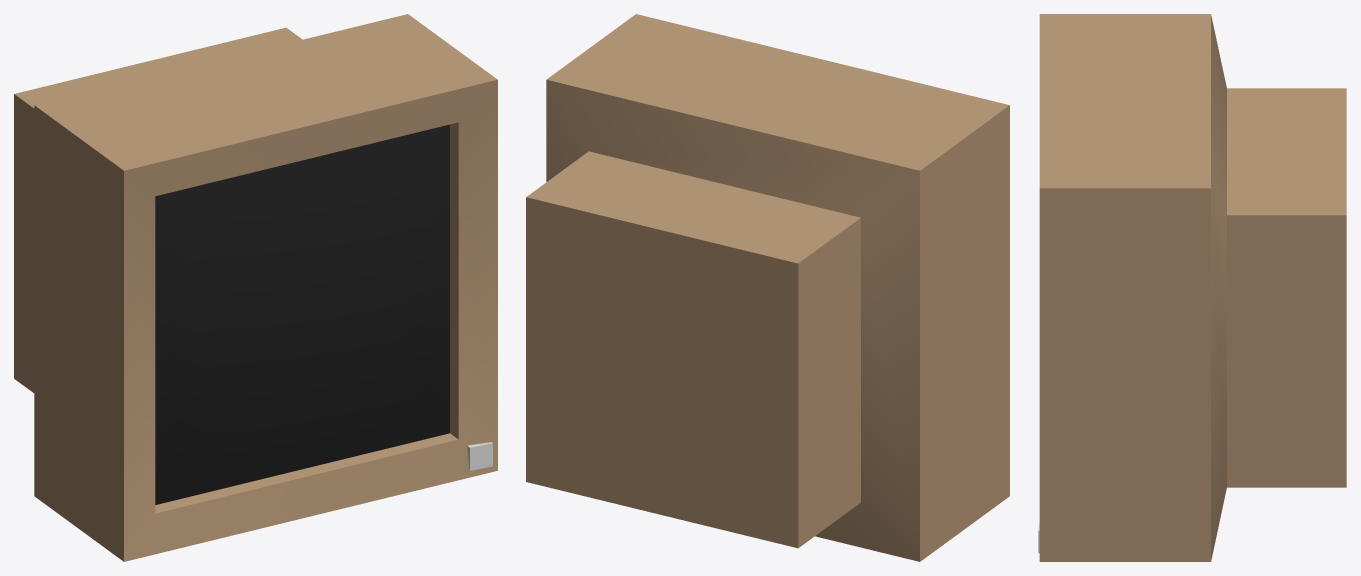
File: Monitor.fbx
3 renders of one model, left to right at view 1: azimuth 30°, elevation 25°; view 2: azimuth 150°, elevation 25°; view 3: azimuth 270°, elevation 25°, orthographic. The views are drawn at different scales.
Visible parts, largest first — view 1: Cube, Cube.001; view 2: Cube; view 3: Cube.
Boxes of the visible parts, <box> form: Cube: <box>14,14,497,561</box>; Cube.001: <box>467,442,492,470</box>; Cube: <box>526,14,1009,561</box>; Cube: <box>1039,14,1346,561</box>.
Bounding box in the file's own units: 418 × 418 × 313.
